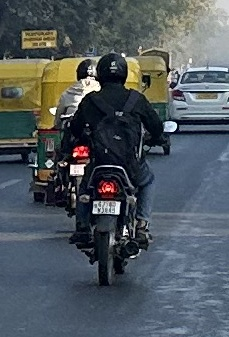BikeWithRider: (63, 51, 181, 291), (50, 54, 105, 221)
Helmet: (93, 51, 131, 92), (71, 54, 103, 85)
